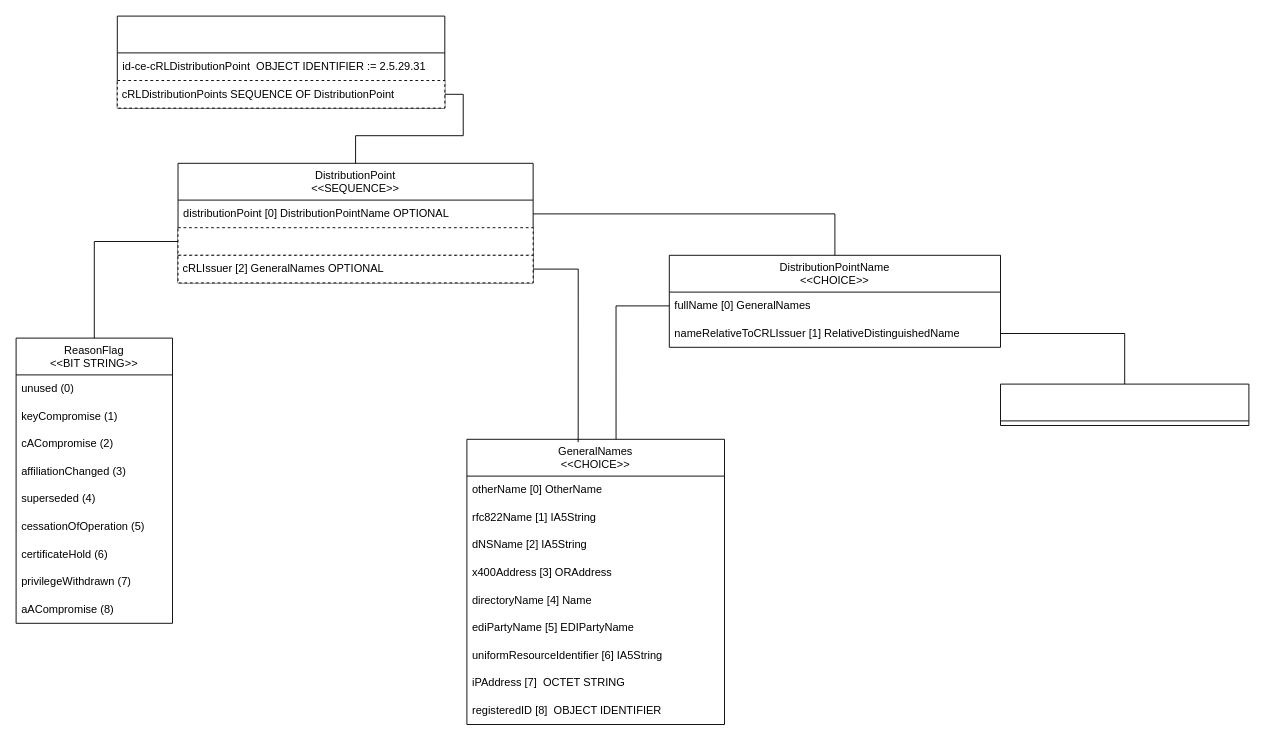
Image size: 1265x741. Some labels were removed from this diagram. Here are the shapes that lost their labels. From the top down, the box of each, then its label:
(116, 15, 445, 108): <<Extension>>
(177, 227, 533, 255): reason [1] ReasonFlag OPTIONAL
(1000, 383, 1249, 426): RelativeDistinguishedName <<SET SIZE OF AttributeTypeAndValue>>
